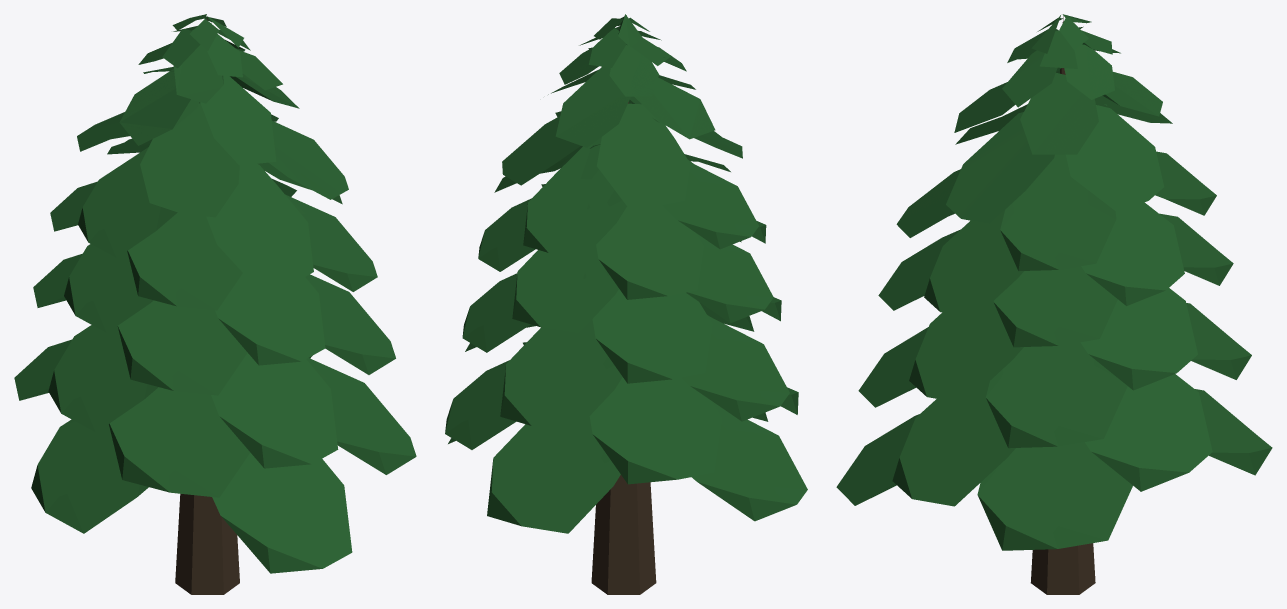
Rendered from Snowy Forest Tree 4.fbx.
3 views of the same model, side by side, from view 1: azimuth 30°, elevation 25°; view 2: azimuth 150°, elevation 25°; view 3: azimuth 270°, elevation 25° (orthographic).
Parts seen in each view (by area): view 1: Cylinder.001; view 2: Cylinder.001; view 3: Cylinder.001.
Boxes of the visible parts, x1=… form: Cylinder.001: x1=14, y1=14, x2=416, y2=594; Cylinder.001: x1=445, y1=14, x2=807, y2=594; Cylinder.001: x1=836, y1=14, x2=1272, y2=594.
Bounding box in the file's own units: 812 × 1317 × 916.
